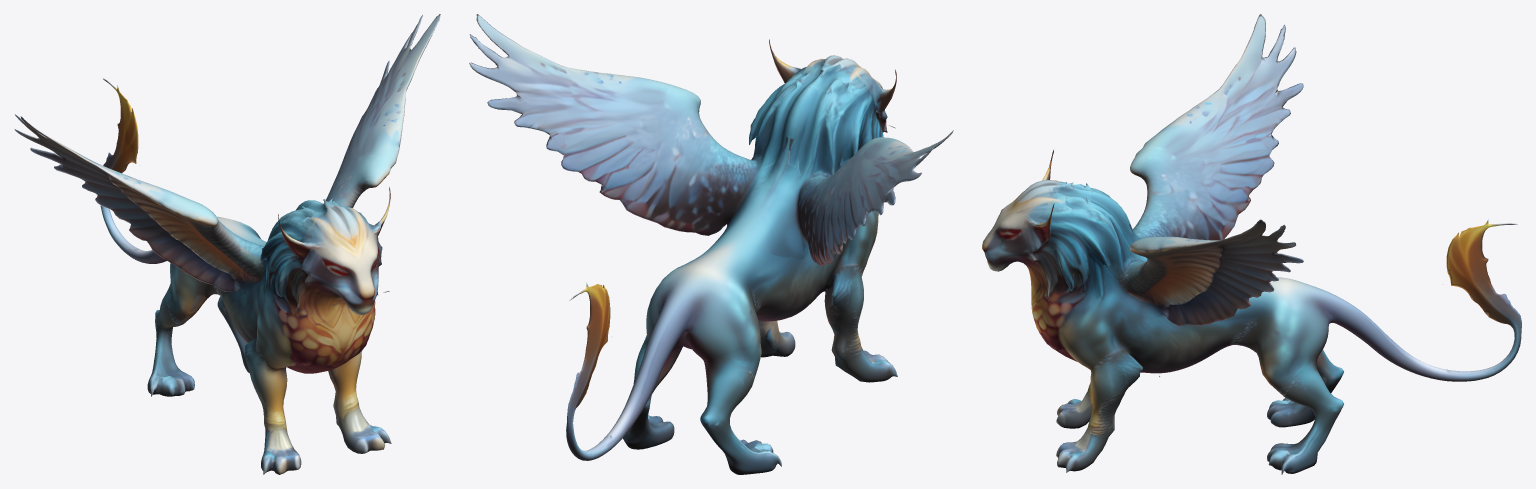
Rendered from for_4_3.glb.
3 renders of one model, left to right at view 1: azimuth 30°, elevation 25°; view 2: azimuth 150°, elevation 25°; view 3: azimuth 270°, elevation 25°, orthographic. The views are drawn at different scales.
Visible parts, largest first — view 1: Object_2; view 2: Object_2; view 3: Object_2.
Boxes of the visible parts, left/top/right/bottom form: Object_2: left=14, top=14, right=440, bottom=474; Object_2: left=469, top=14, right=953, bottom=474; Object_2: left=982, top=14, right=1521, bottom=474.
Bounding box in the file's own units: 2.7 × 2 × 3.
1 material, 1 textured.
